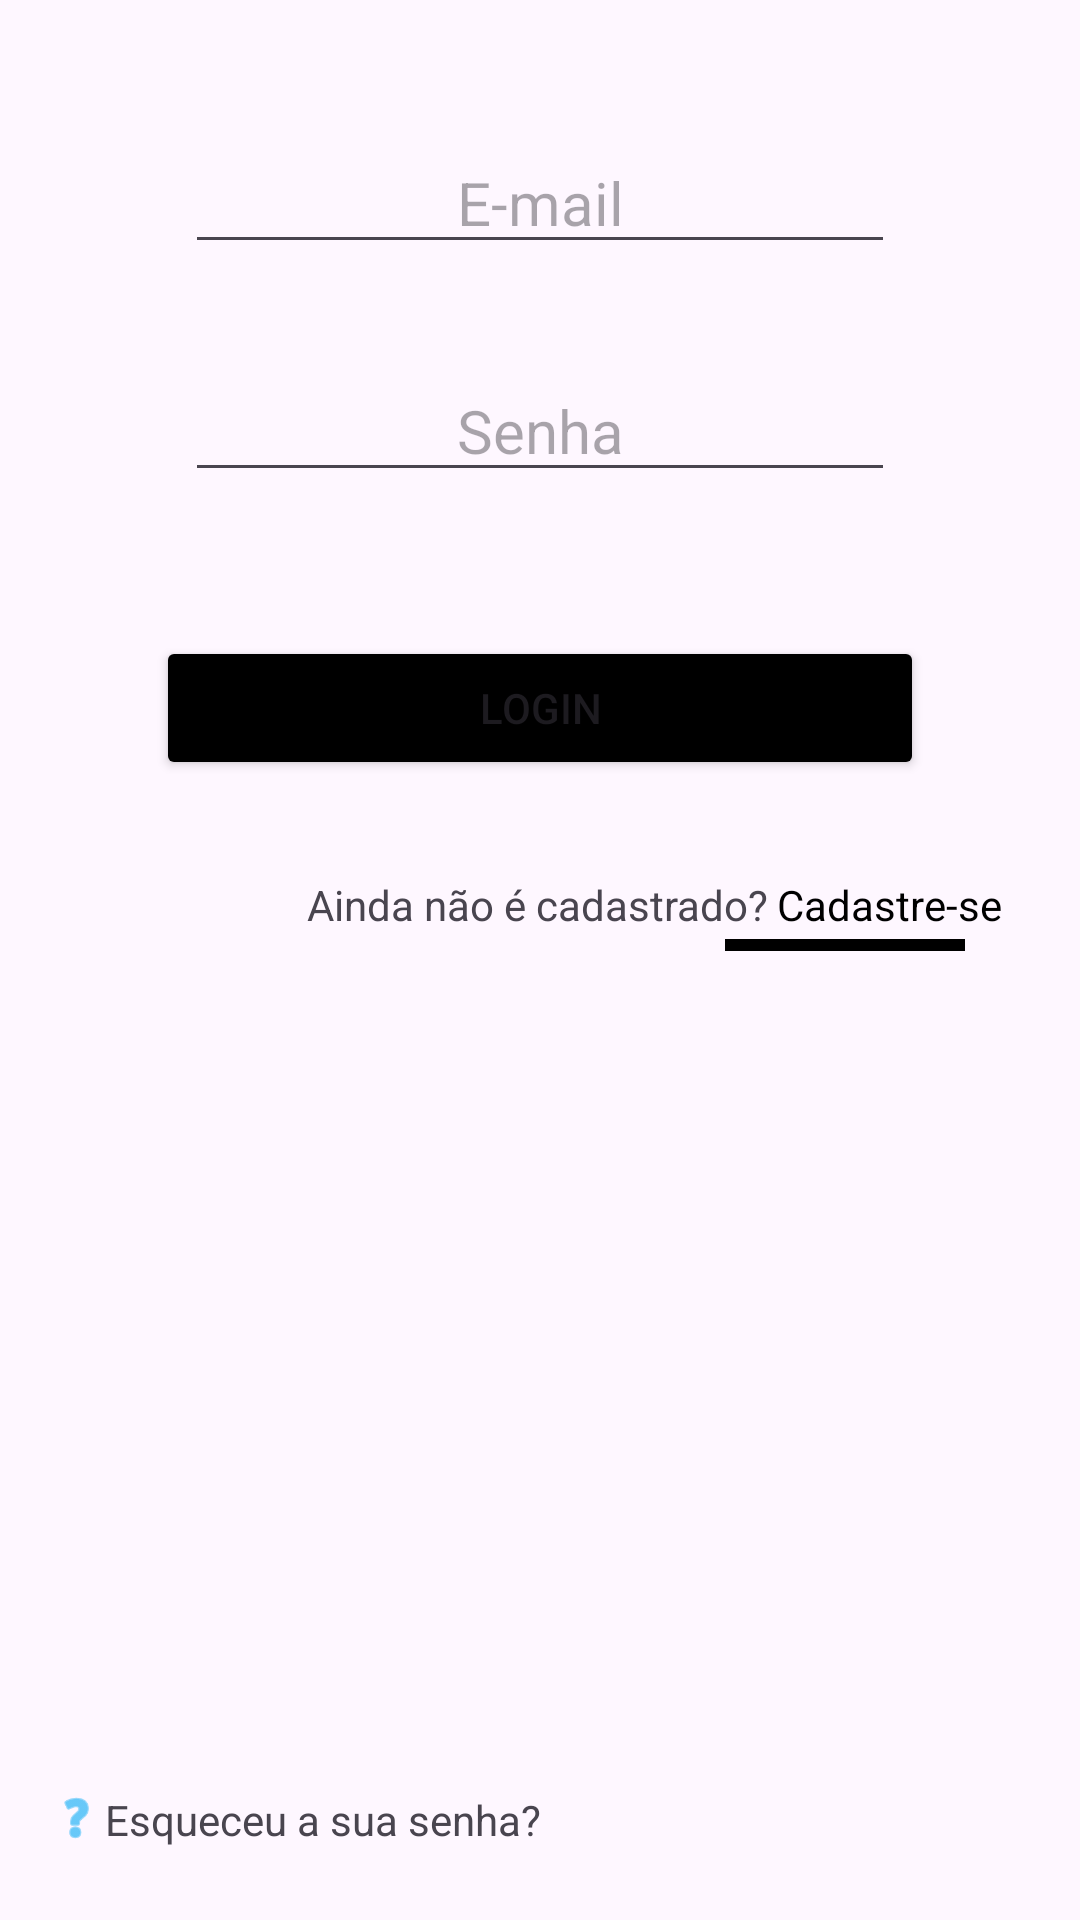

Screen size 1080×1920. Icon name, then its box in pixels as BBox(x1, y1, x2, y2):
help: BBox(64, 1798, 89, 1838)
